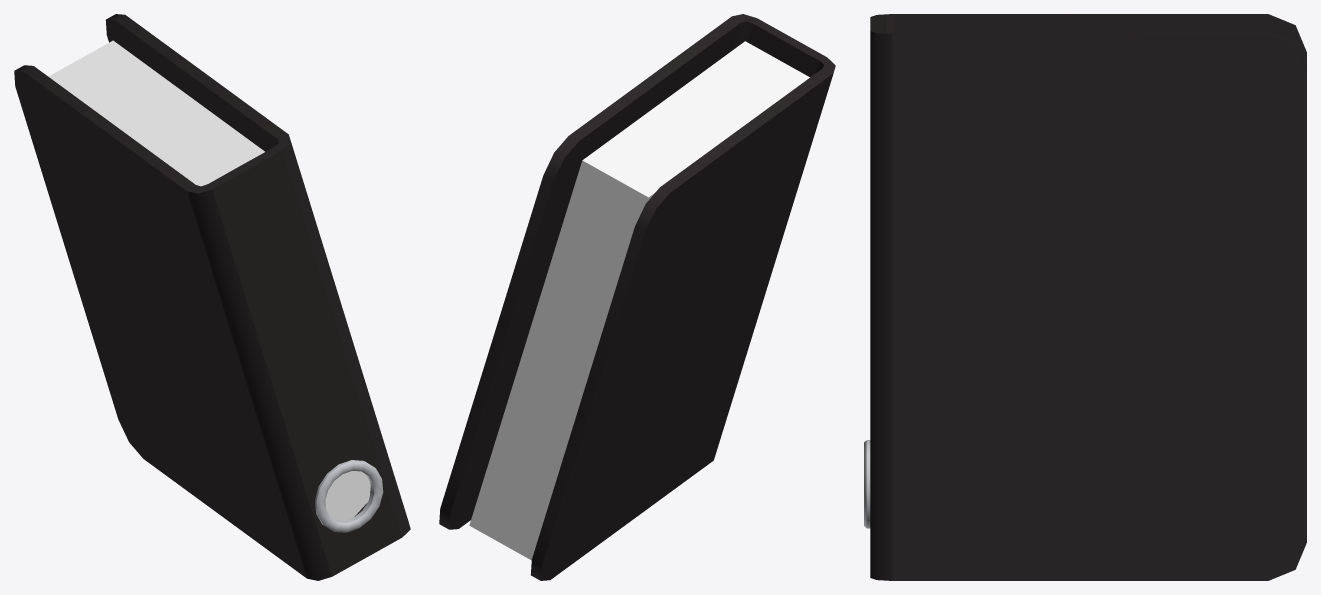
Rendered from Folder_9.fbx.
3 renders of one model, left to right at view 1: azimuth 30°, elevation 25°; view 2: azimuth 150°, elevation 25°; view 3: azimuth 270°, elevation 25°, orthographic. The views are drawn at different scales.
Parts seen in each view (by area): view 1: Folder_9; view 2: Folder_9; view 3: Folder_9.
Boxes of the visible parts, box(x1,y1,x2,y2) form: Folder_9: box(14, 14, 410, 580); Folder_9: box(439, 14, 835, 580); Folder_9: box(864, 14, 1306, 580).
Bounding box in the file's own units: 0.2095 × 0.4055 × 0.3152.
